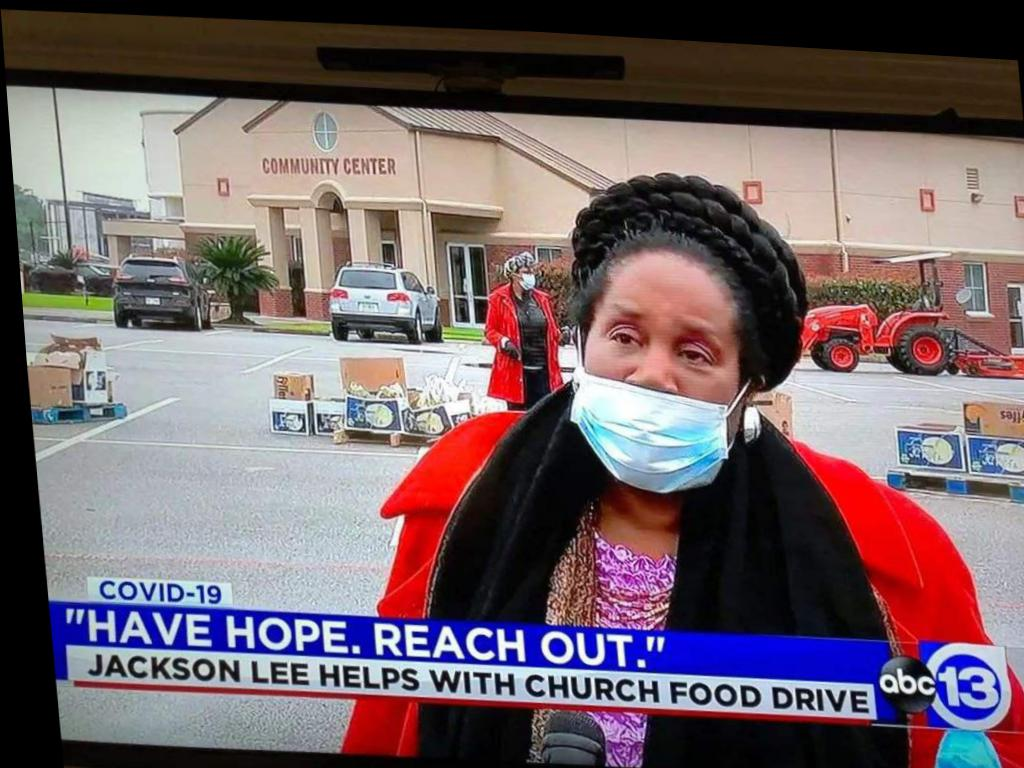OK: (513, 259, 538, 284)
WRONG: (568, 278, 746, 490)
